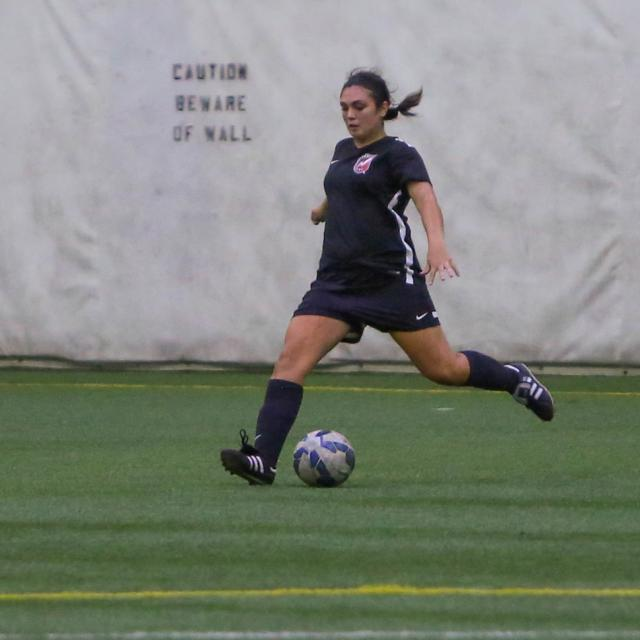football: (285, 428, 373, 485)
